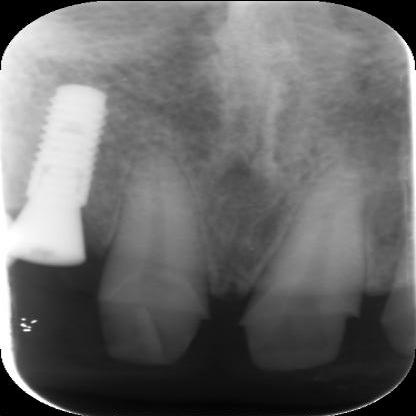ITI: (18, 74, 120, 208)
